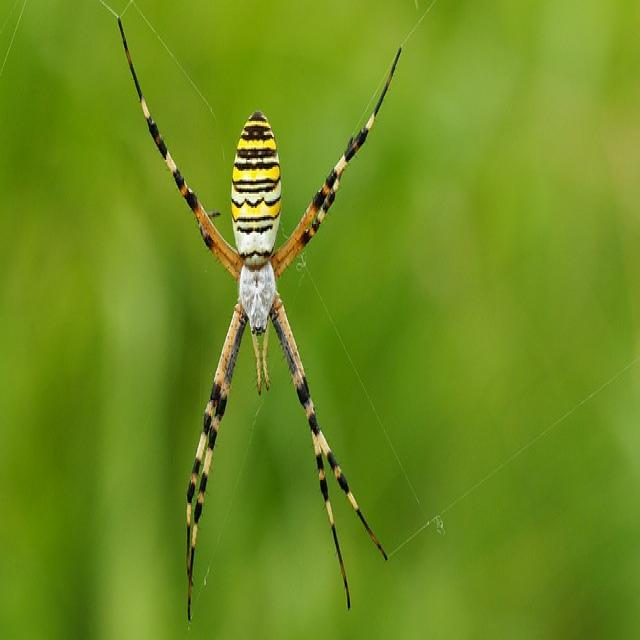spyder: (117, 18, 395, 622)
